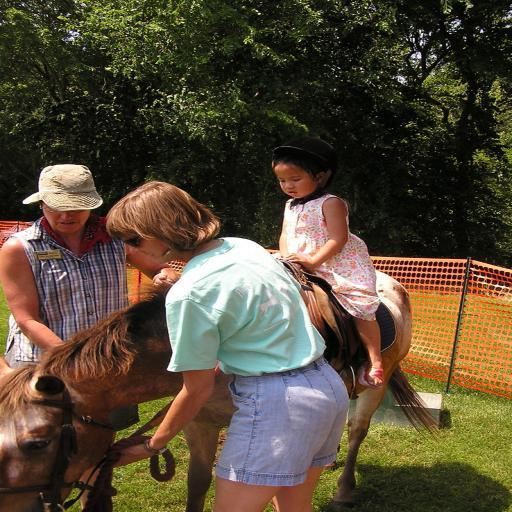horse: (0, 254, 446, 511)
